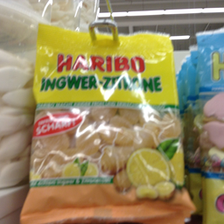candy: (23, 22, 197, 224)
